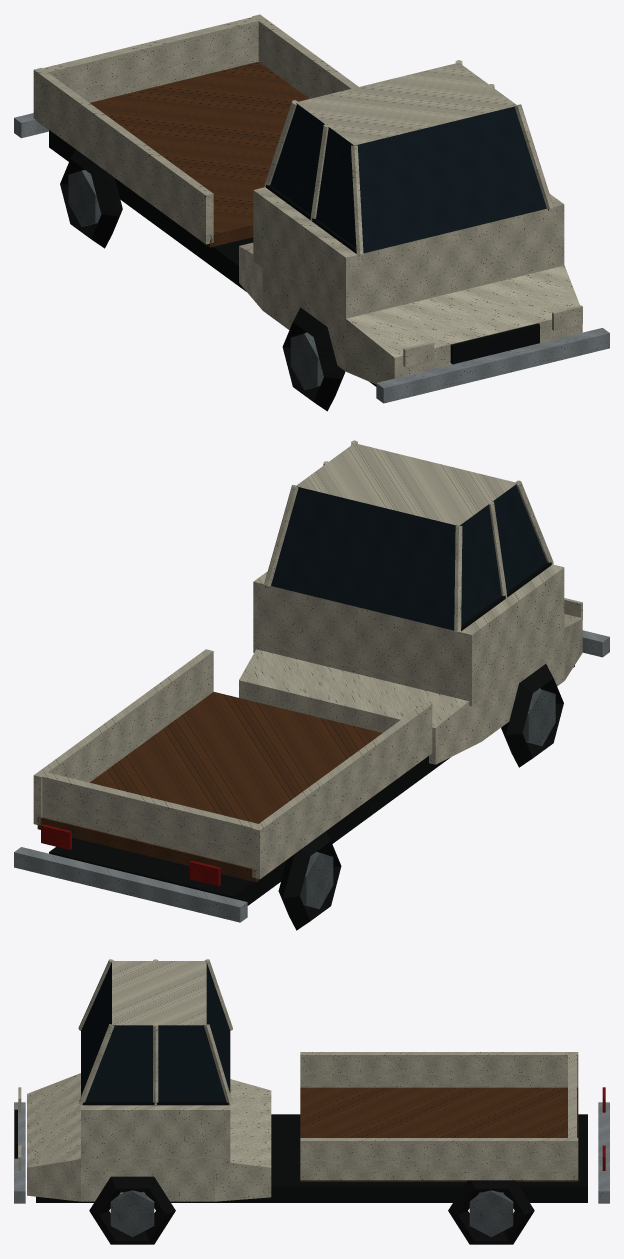
The model's file is PROP-DC867A434090_lod2.glb.
The picture shows the model from 3 angles, top to bottom: view 1: azimuth 30°, elevation 25°; view 2: azimuth 150°, elevation 25°; view 3: azimuth 270°, elevation 25°; orthographic projection. The views are drawn at different scales.
Visible parts, largest first — view 1: sloped_cabin_glazing.003, lower_cab_shell.001, bed_deck.001, shaped_body_panels.005, bed_sides.001, roof_panel.003, tailgate.001, bumper.005, tire.005, chassis.005, window_pillars.003, rim.005 (+3 smaller); view 2: sloped_cabin_glazing.003, bed_deck.001, lower_cab_shell.001, bed_sides.001, shaped_body_panels.005, tailgate.001, roof_panel.003, chassis.005, bumper.005, tire.005, rim.005, window_pillars.003 (+1 smaller); view 3: bed_sides.001, shaped_body_panels.005, bed_deck.001, sloped_cabin_glazing.003, lower_cab_shell.001, chassis.005, roof_panel.003, tire.005, rim.005, window_pillars.003, bumper.005, tailgate.001 (+1 smaller).
Part boxes in pixels (box(x1,y1,x2,y2)): sloped_cabin_glazing.003: box(270, 103, 546, 253); lower_cab_shell.001: box(253, 187, 564, 327); bed_deck.001: box(39, 61, 308, 247); shaped_body_panels.005: box(239, 242, 582, 384); bed_sides.001: box(33, 14, 358, 244); roof_panel.003: box(295, 62, 517, 145); tailgate.001: box(42, 16, 261, 102); bumper.005: box(14, 113, 609, 403); tire.005: box(60, 149, 345, 411); chassis.005: box(49, 130, 376, 386); window_pillars.003: box(264, 60, 553, 254); rim.005: box(68, 170, 323, 389); sloped_cabin_glazing.003: box(271, 483, 547, 630); bed_deck.001: box(37, 692, 426, 882); lower_cab_shell.001: box(253, 564, 564, 705); bed_sides.001: box(33, 649, 432, 879); shaped_body_panels.005: box(239, 614, 582, 764); tailgate.001: box(42, 772, 261, 868); roof_panel.003: box(296, 443, 517, 525); chassis.005: box(49, 665, 574, 905); bumper.005: box(14, 630, 609, 922); tire.005: box(278, 664, 563, 930); rim.005: box(300, 689, 555, 908); window_pillars.003: box(264, 440, 553, 631); bed_sides.001: box(300, 1052, 578, 1180); shaped_body_panels.005: box(27, 1073, 271, 1201); bed_deck.001: box(300, 1087, 578, 1181); sloped_cabin_glazing.003: box(81, 961, 230, 1101); lower_cab_shell.001: box(81, 1105, 230, 1167); chassis.005: box(36, 1114, 587, 1202); roof_panel.003: box(112, 961, 206, 1025); tire.005: box(89, 1176, 534, 1244); rim.005: box(110, 1190, 513, 1237); window_pillars.003: box(78, 959, 232, 1105); bumper.005: box(14, 1102, 609, 1203); tailgate.001: box(568, 1053, 576, 1139).
Size of the model in its own units: 2.47 by 2.56 by 6.59.
Materials: 8 (8 with a texture image).
